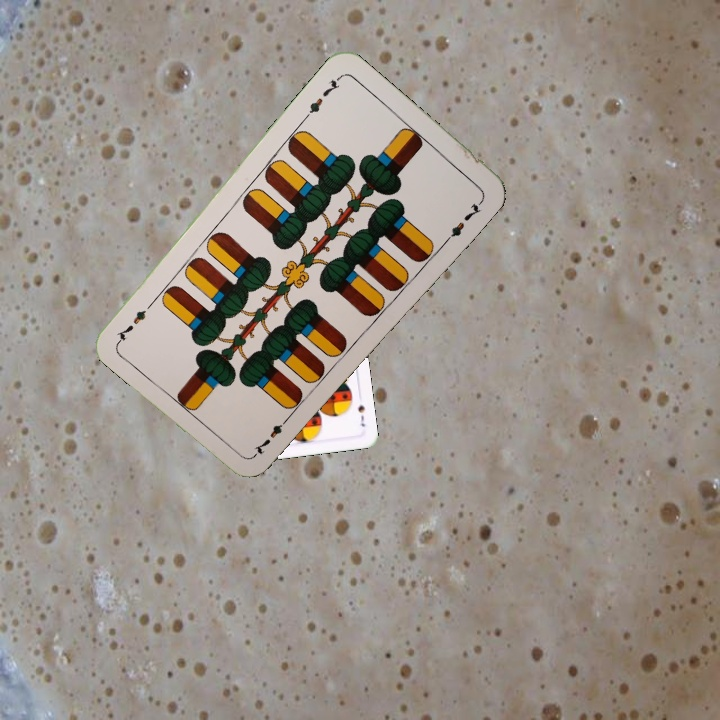E7: (250, 410, 294, 459), (301, 72, 344, 121)
S7: (354, 401, 368, 429)
